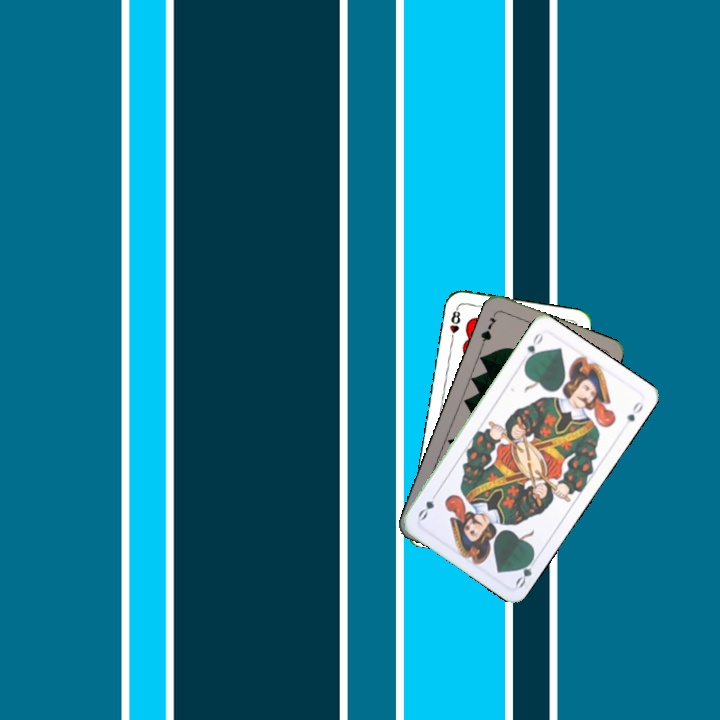G7: (477, 309, 500, 348)
GO: (511, 551, 541, 590), (521, 329, 546, 366)
H8: (446, 304, 463, 344)
